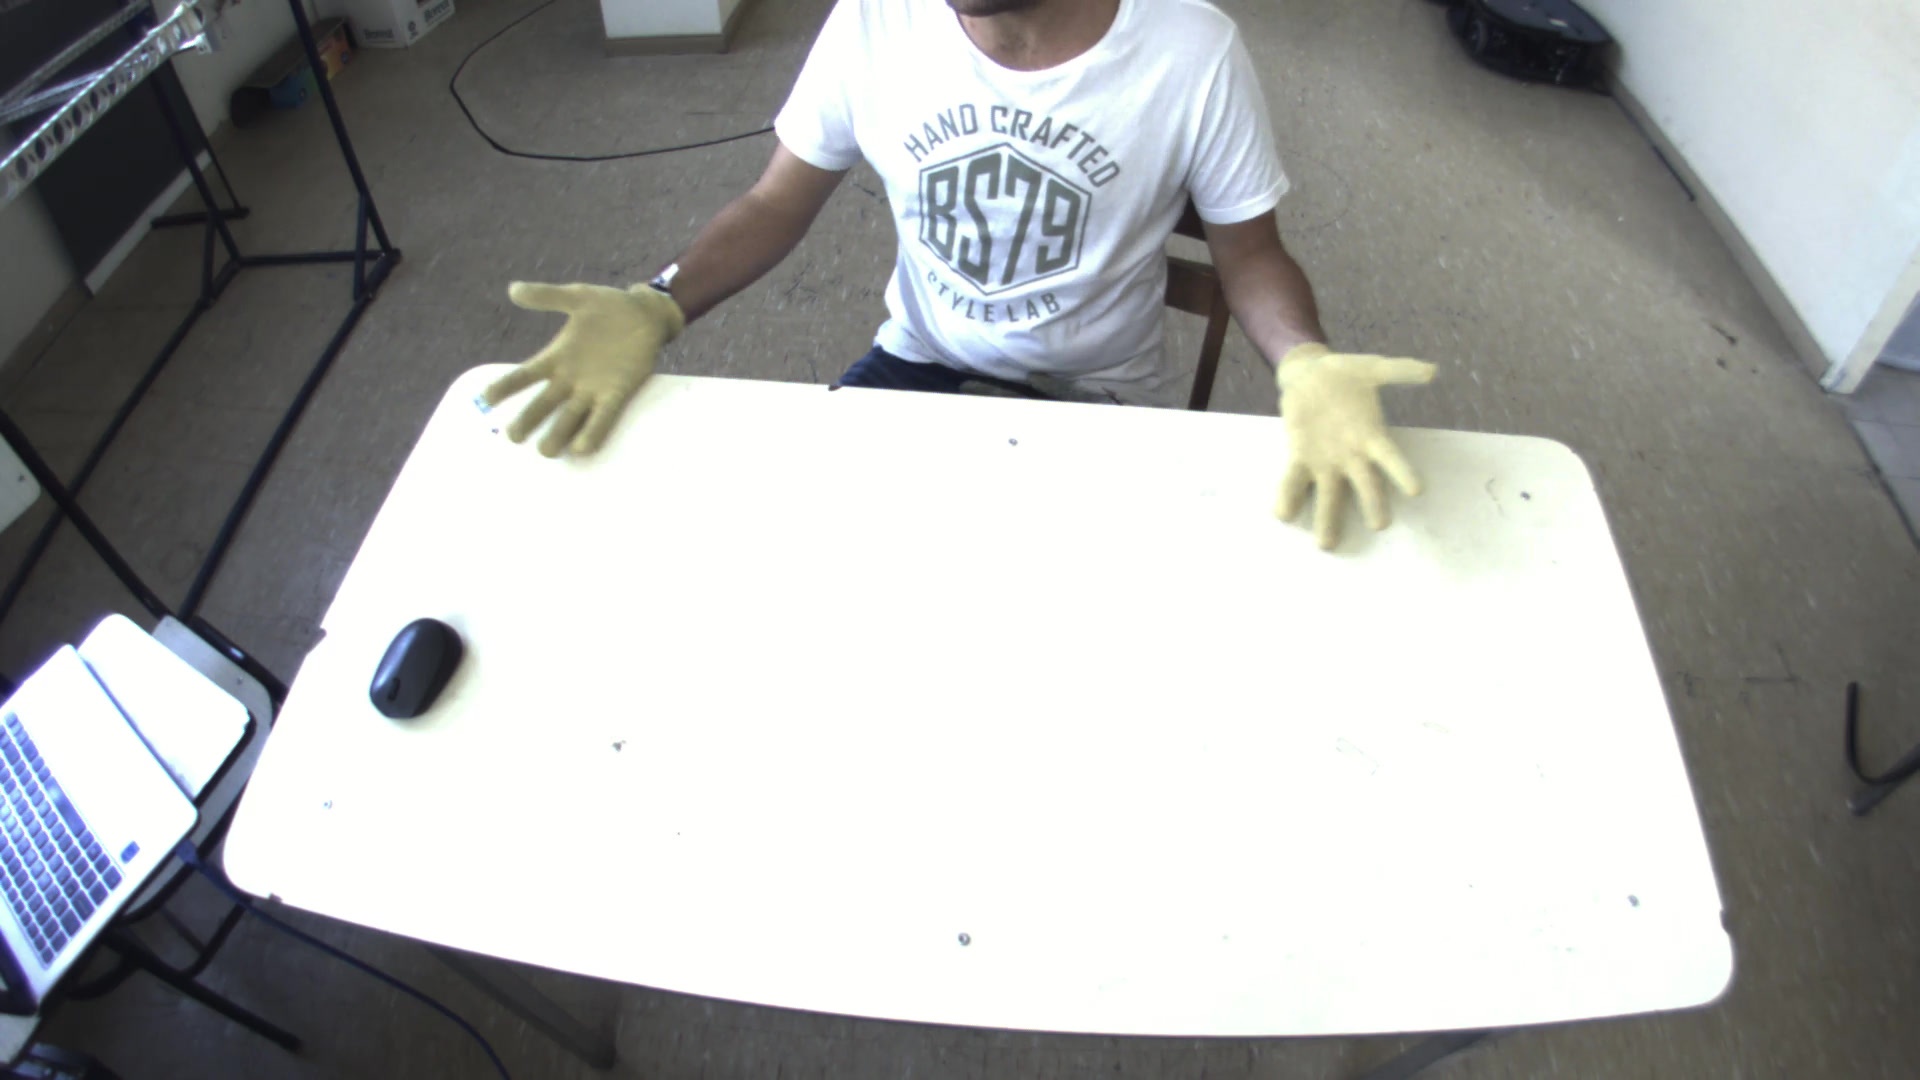hand: (451, 258, 684, 463), (1270, 327, 1447, 558)
